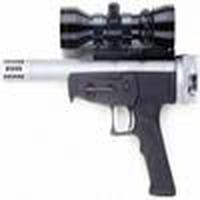gun: (1, 7, 196, 194)
